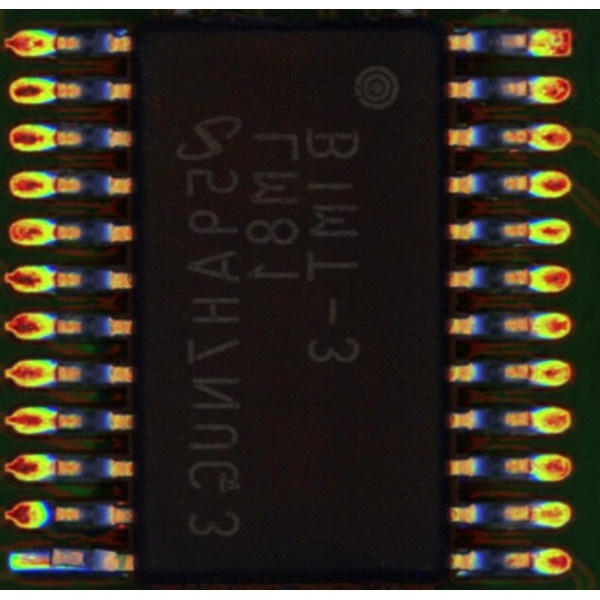Bad_podu: (32, 553, 68, 566)
Bad_qiaojiao: (51, 565, 87, 571)
